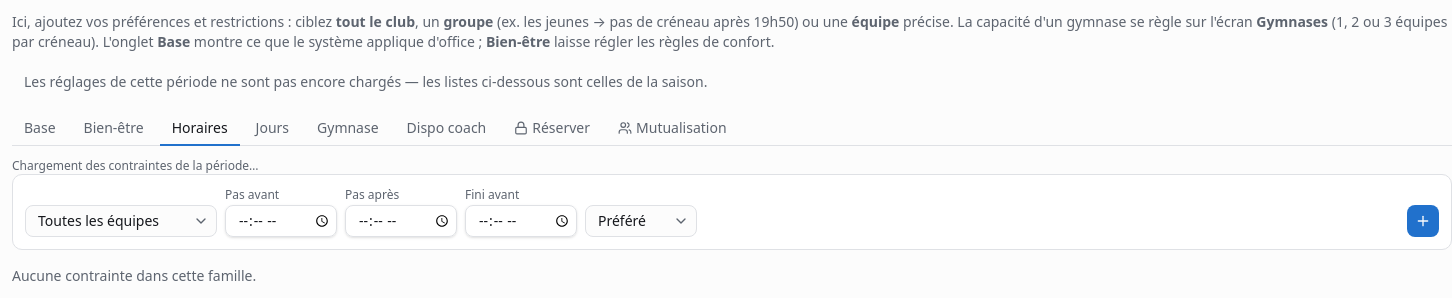
Test: ConstraintsStep — inherited section lives inside the family tabs (period mode) › Bien-être attend le plan de la période avant d'offrir le panneau (jamais le socle)
The image size is (1452, 298).
What coordinates should you click on to do the following:
click the button "Bien-être"
I would click on:
 (114, 129)
Its box is [72,112,156,146].
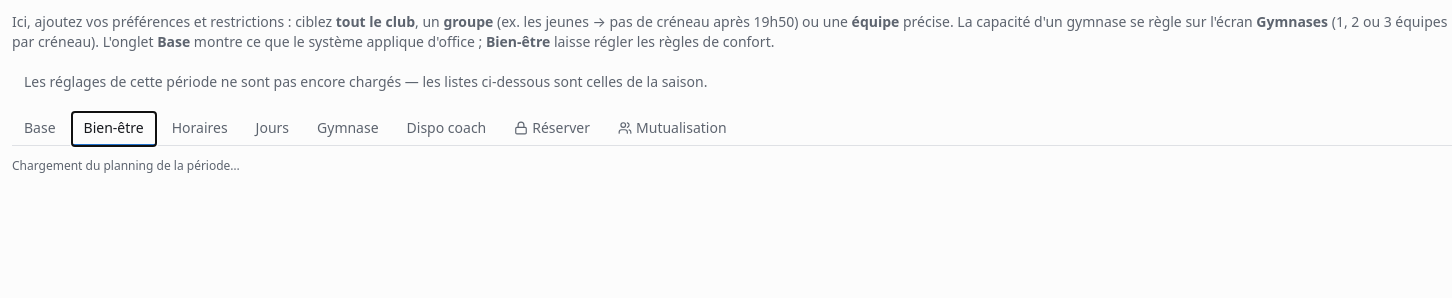
Check: the text "Chargement du planning de la période…" is shown, box [12,157,240,174]
